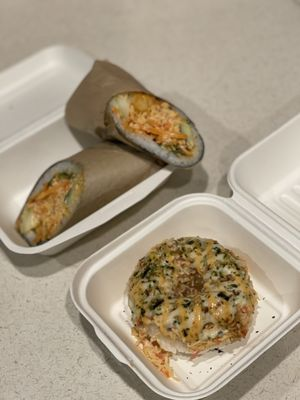sushi: (69, 189, 300, 399), (0, 142, 179, 256)
